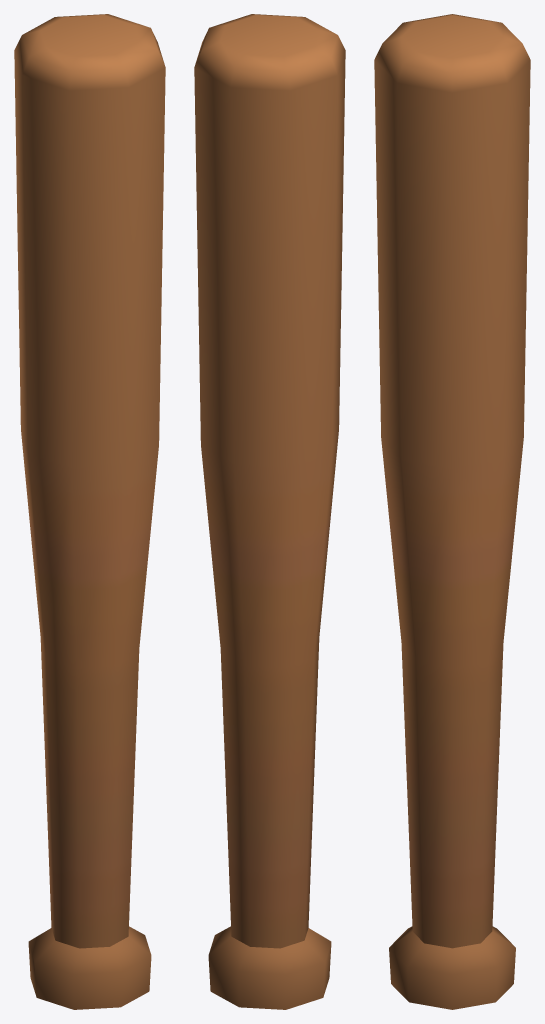
Rendered from MeleeWeaponAgent_Bat.fbx.
3 renders of one model, left to right at view 1: azimuth 30°, elevation 25°; view 2: azimuth 150°, elevation 25°; view 3: azimuth 270°, elevation 25°, orthographic.
Visible parts, largest first — view 1: Bat01; view 2: Bat01; view 3: Bat01.
Part boxes in pixels (left/top/right/bottom): Bat01: left=14, top=14, right=165, bottom=1009; Bat01: left=194, top=14, right=345, bottom=1009; Bat01: left=374, top=14, right=530, bottom=1009.
Size of the model in its own units: 0.1926 by 1.29 by 0.1926.
